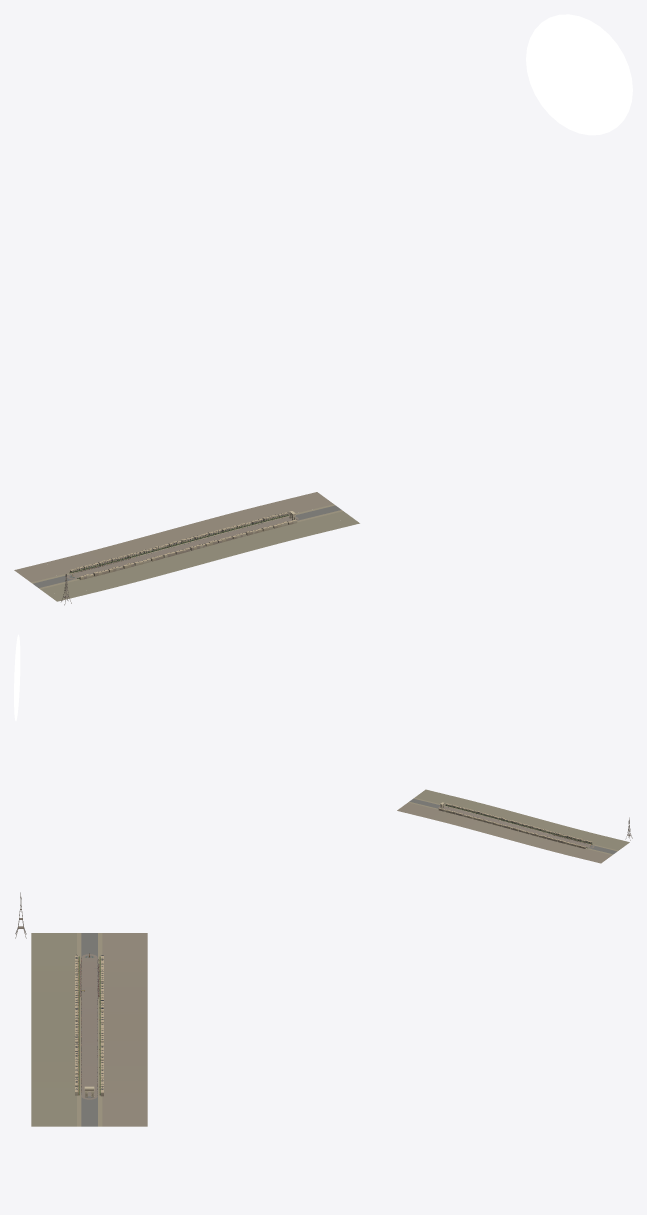
The model's file is champs.glb.
3 views of the same model, one above another, from view 1: azimuth 30°, elevation 25°; view 2: azimuth 150°, elevation 25°; view 3: azimuth 270°, elevation 25° (orthographic). The views are drawn at different scales.
Visible parts, largest first — view 1: Sun, Land_002, Land_017, Land_006, Land_020, Land_000, Land_001, Land_018, Land_019; view 2: Land_002, Land_017, Land_006, Land_020, Land_018, Land_000, Land_001, Land_019, Sun; view 3: Land_002, Land_017, Land_006, Land_020, Land_000, Land_001, Land_018, Land_019, Land_021, Land_013, Land_010, Land_007 (+3 smaller).
Boxes of the visible parts, x1=… form: Sun: x1=526, y1=14, x2=632, y2=135; Land_002: x1=249, y1=493, x2=357, y2=546; Land_017: x1=239, y1=492, x2=352, y2=534; Land_006: x1=18, y1=561, x2=119, y2=601; Land_020: x1=14, y1=546, x2=129, y2=582; Land_000: x1=119, y1=549, x2=200, y2=581; Land_001: x1=183, y1=532, x2=264, y2=564; Land_018: x1=175, y1=511, x2=256, y2=541; Land_019: x1=111, y1=528, x2=193, y2=559; Land_002: x1=400, y1=790, x2=489, y2=818; Land_017: x1=397, y1=791, x2=461, y2=823; Land_006: x1=568, y1=832, x2=629, y2=862; Land_020: x1=536, y1=837, x2=611, y2=863; Land_018: x1=449, y1=813, x2=502, y2=835; Land_000: x1=521, y1=817, x2=575, y2=837; Land_001: x1=478, y1=805, x2=532, y2=826; Land_019: x1=493, y1=825, x2=545, y2=846; Sun: x1=14, y1=634, x2=20, y2=720; Land_002: x1=31, y1=1061, x2=147, y2=1126; Land_017: x1=31, y1=1071, x2=147, y2=1126; Land_006: x1=31, y1=933, x2=147, y2=974; Land_020: x1=89, y1=933, x2=147, y2=995; Land_000: x1=31, y1=981, x2=97, y2=1024; Land_001: x1=31, y1=1021, x2=97, y2=1064; Land_018: x1=97, y1=1033, x2=147, y2=1075; Land_019: x1=97, y1=991, x2=147, y2=1035; Land_021: x1=31, y1=933, x2=102, y2=985; Land_013: x1=31, y1=933, x2=147, y2=977; Land_010: x1=31, y1=1062, x2=147, y2=1126; Land_007: x1=31, y1=971, x2=97, y2=1000.
Bounding box in the file's own units: 5547 × 1928 × 2966.
